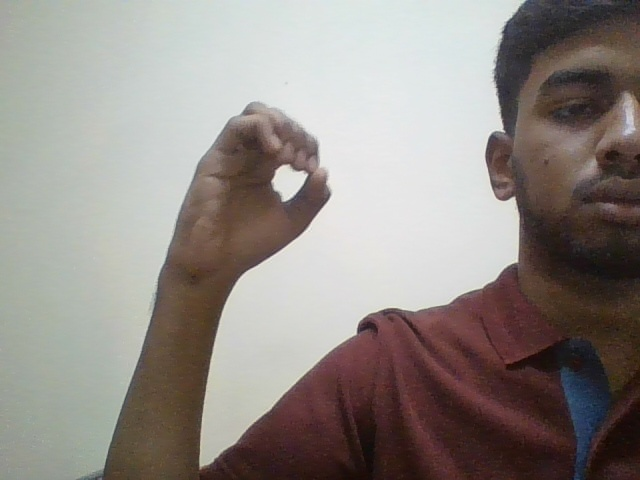O: (145, 85, 348, 288)
